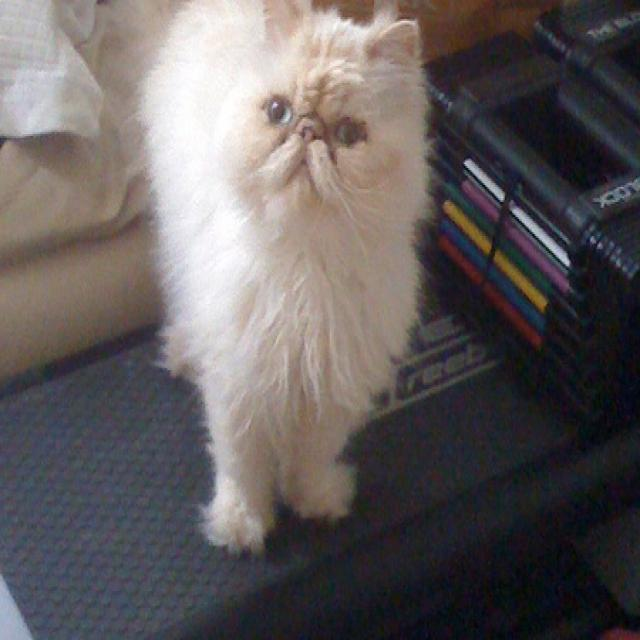Persian: (135, 0, 438, 561)
